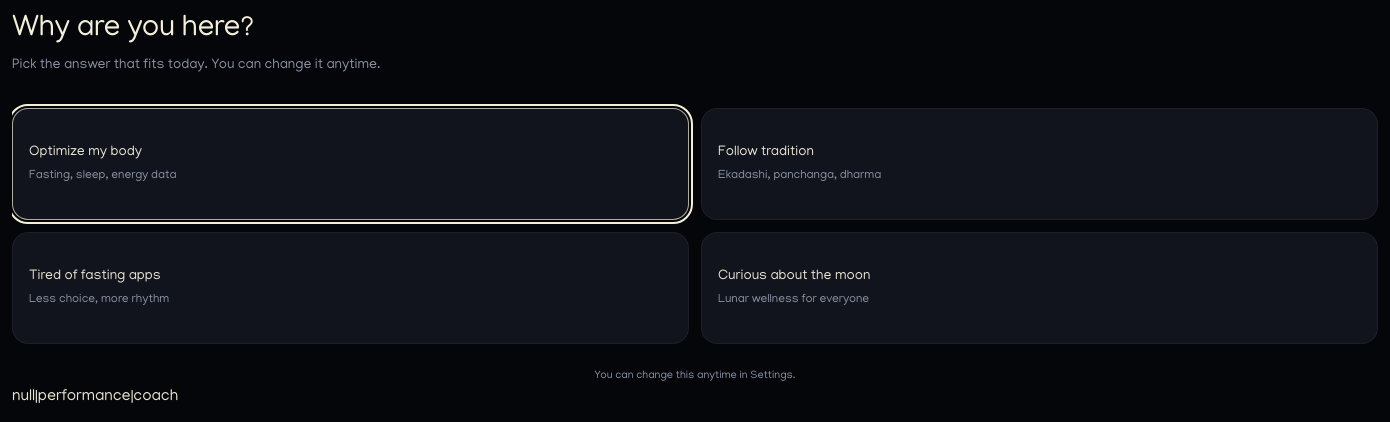
it: IntentRouter › persists tired → minimal + coach
Click the radio button labelled "Tired of fasting apps Less choice, more rhythm".
click(95, 276)  # box [12,232,689,344]
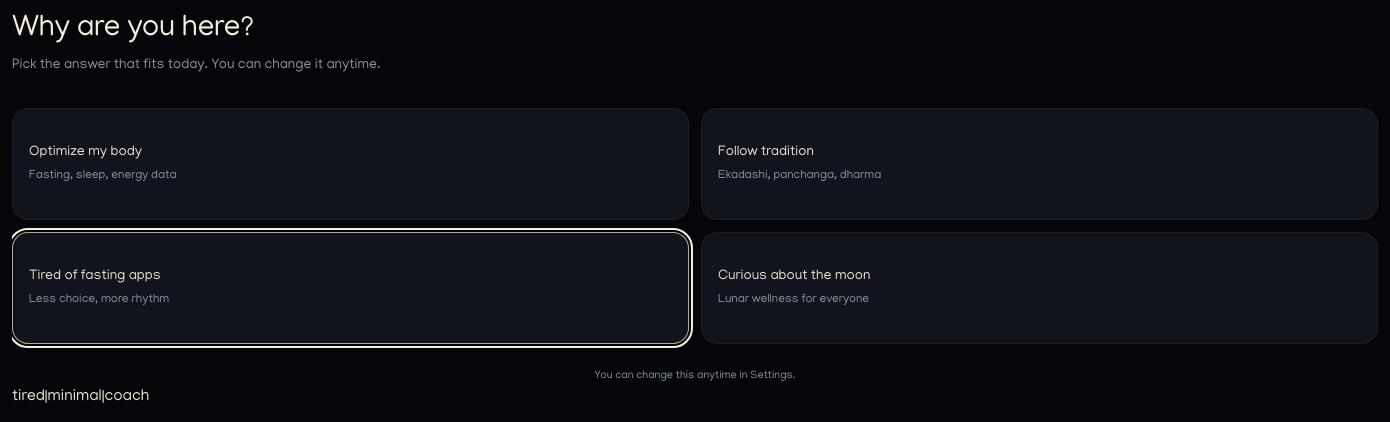
Check: the text with test id "prefs" reads "tired|minimal|coach", box [12,388,149,406]
